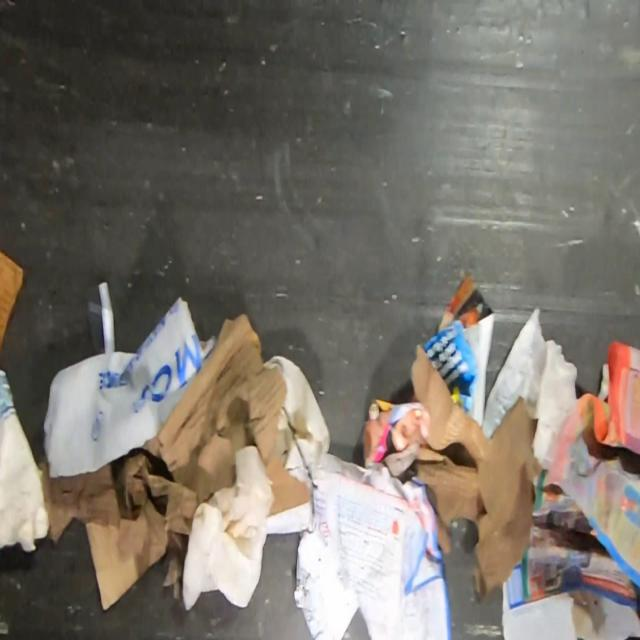cardboard: (37, 312, 313, 612), (409, 341, 543, 600), (0, 245, 27, 359)
soft_plastic: (43, 295, 217, 480), (484, 306, 578, 472), (182, 444, 274, 612), (263, 354, 332, 466)
